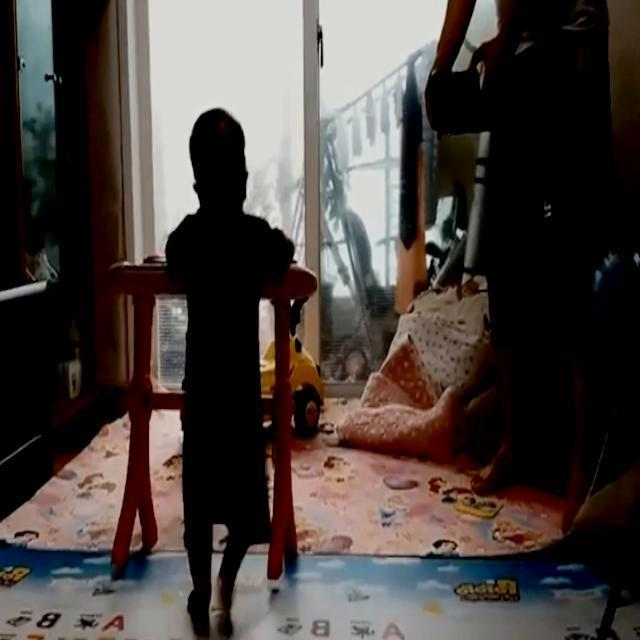child: (164, 106, 295, 640)
